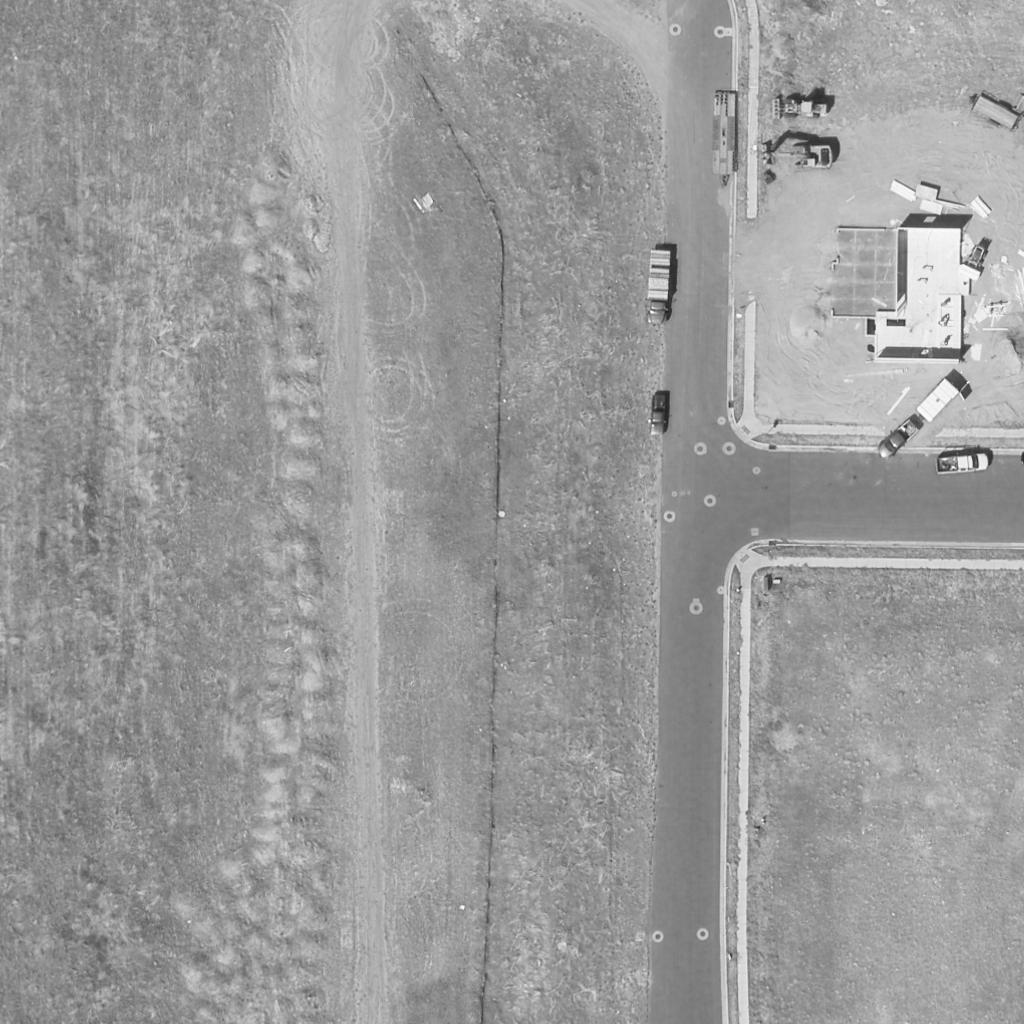vehicle: (760, 140, 834, 174), (871, 417, 921, 463), (915, 378, 961, 426), (647, 247, 673, 325), (957, 242, 993, 282), (935, 451, 991, 475), (771, 97, 827, 119), (652, 393, 670, 435)
